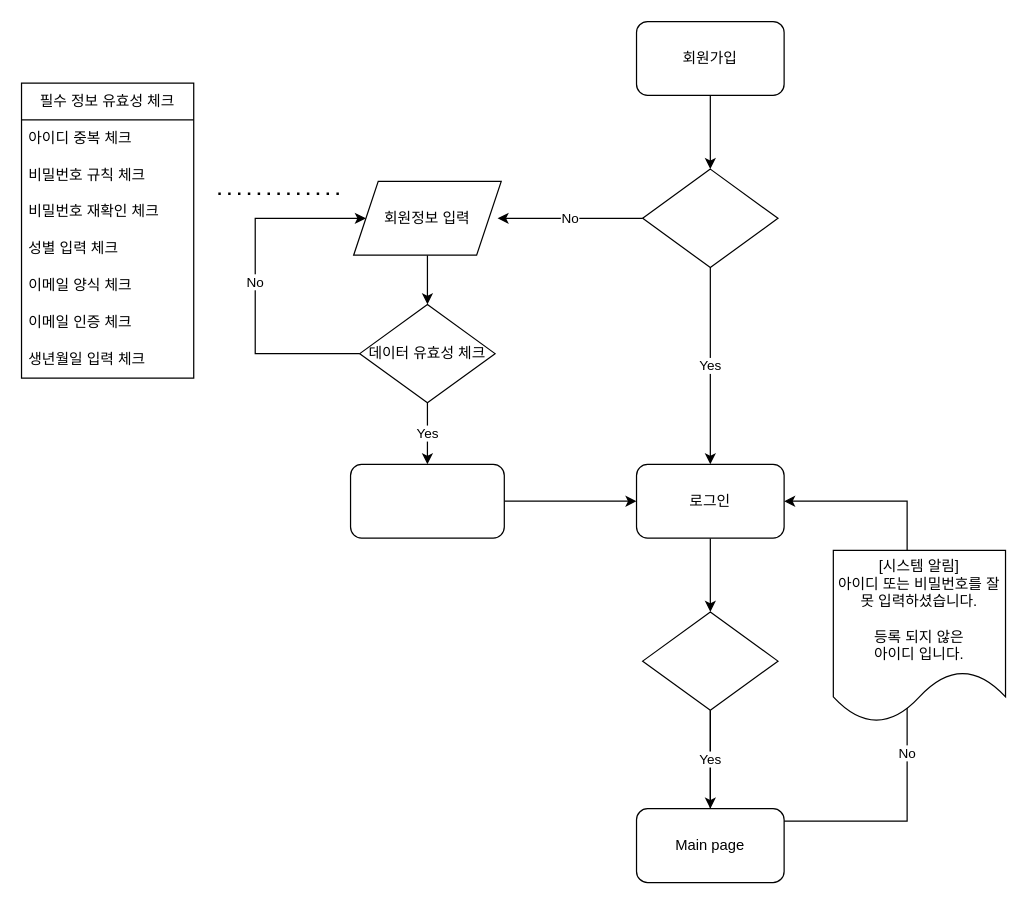
Image size: 1027x904. Some labels were removed from this diagram. Here are the shapes that lost their labels. From the top down, the centre of each, then its label:
At (x=709, y=218): "회원인가? Y/N".
At (x=426, y=500): "회원가입 성공".
At (x=709, y=660): "ID/PW체크".
